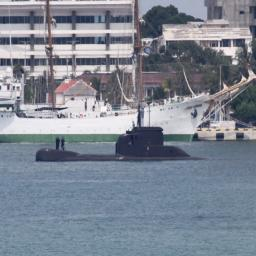submarine: (37, 94, 229, 162)
